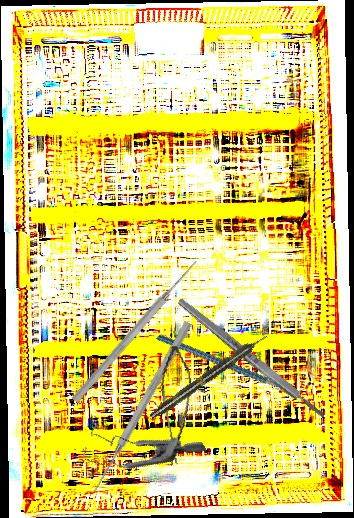Chopper: (156, 290, 309, 436)
Handpiece: (147, 331, 271, 422)
Micro Scissor: (148, 344, 207, 466)
Pusher: (70, 257, 201, 405), (89, 319, 194, 495)
Scalpel Handle: (176, 296, 327, 421)
Speculum: (72, 381, 207, 507)
